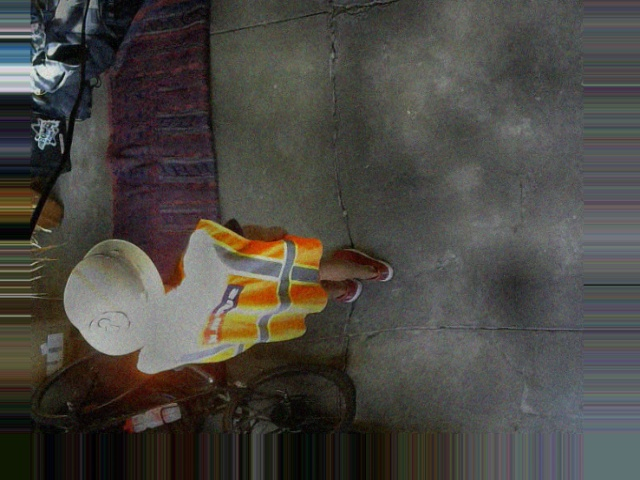eight: (89, 309, 131, 340)
